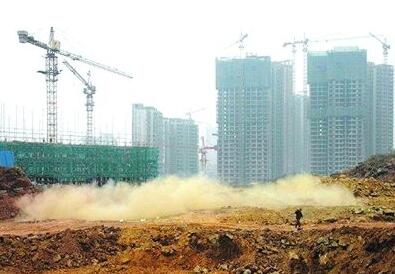dust: (23, 181, 348, 213)
